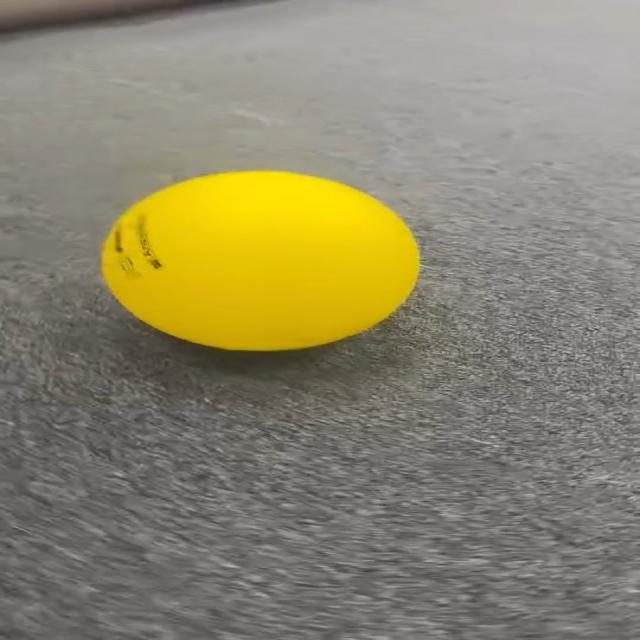Fuels: (102, 172, 415, 347)
